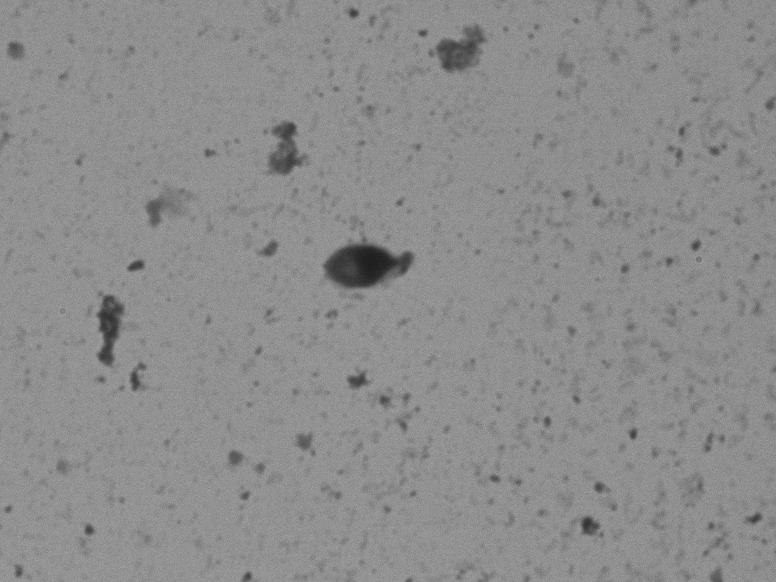Abnormal: (250, 184, 458, 341)
